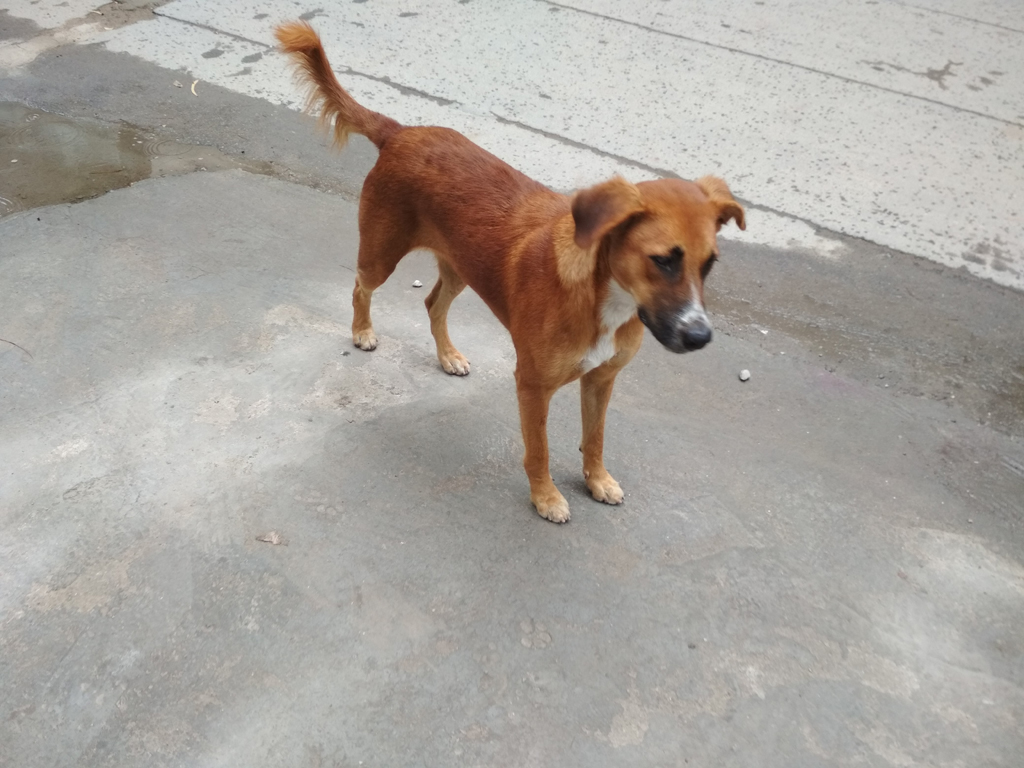dog: (275, 23, 749, 523)
